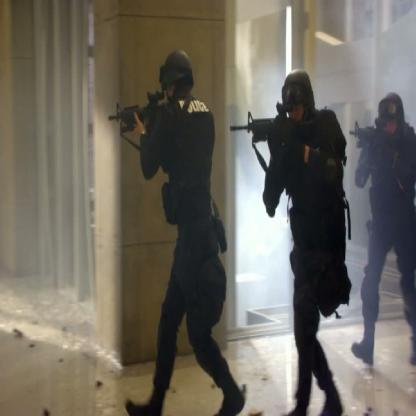Guns: (230, 104, 320, 156), (107, 85, 178, 141), (349, 116, 411, 158)
